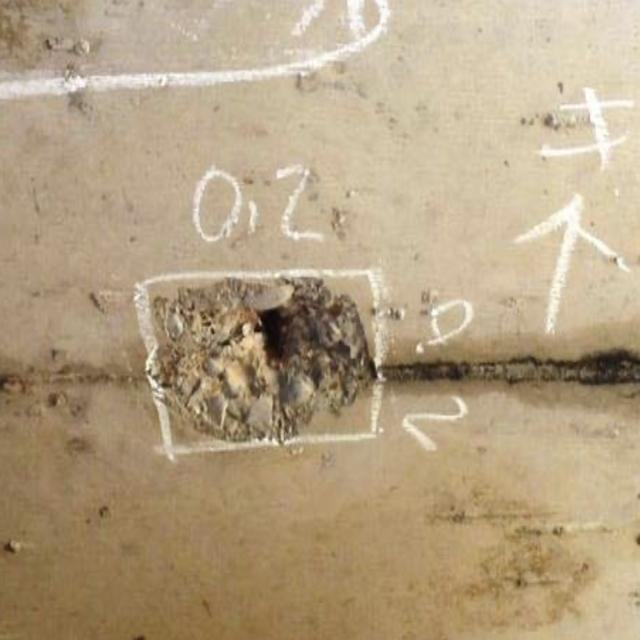spalling: (137, 270, 382, 439)
